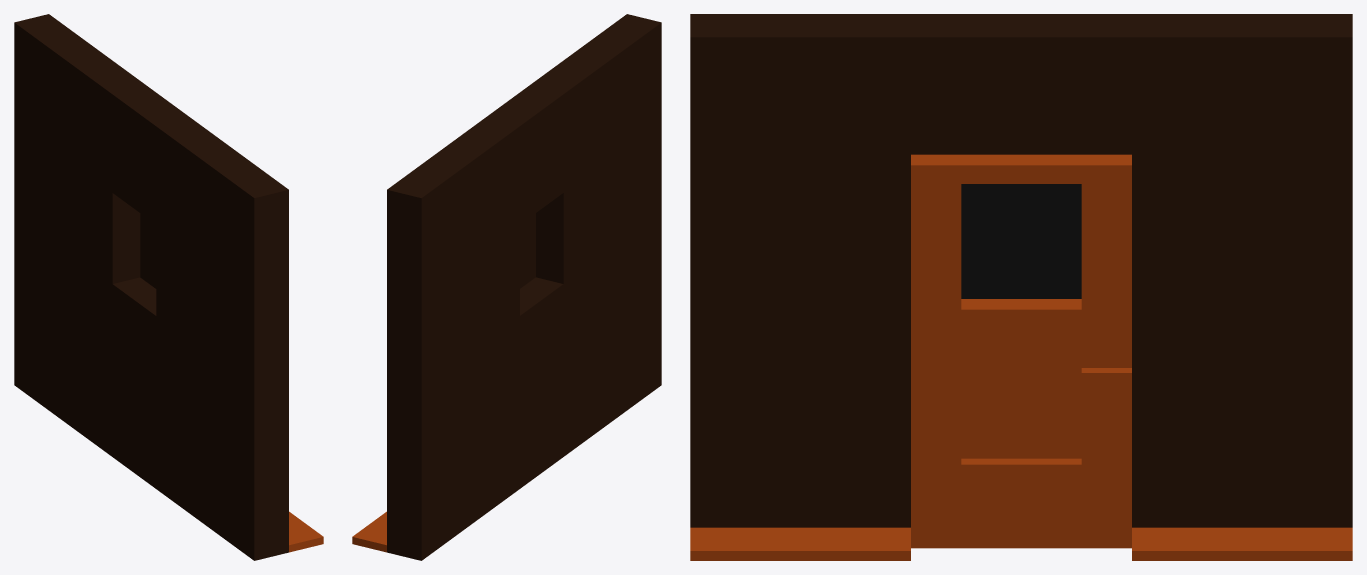
The model's file is WallDoorDetail.FBX.
The picture shows the model from 3 angles, left to right: view 1: azimuth 30°, elevation 25°; view 2: azimuth 150°, elevation 25°; view 3: azimuth 270°, elevation 25°; orthographic projection. The views are drawn at different scales.
Parts seen in each view (by area): view 1: WallDoorDetail; view 2: WallDoorDetail; view 3: WallDoorDetail.
Boxes of the visible parts, left/top/right/bottom form: WallDoorDetail: left=14, top=14, right=323, bottom=560; WallDoorDetail: left=352, top=14, right=661, bottom=560; WallDoorDetail: left=690, top=14, right=1352, bottom=560.
Size of the model in its own units: 0.5 by 2.5 by 3.
